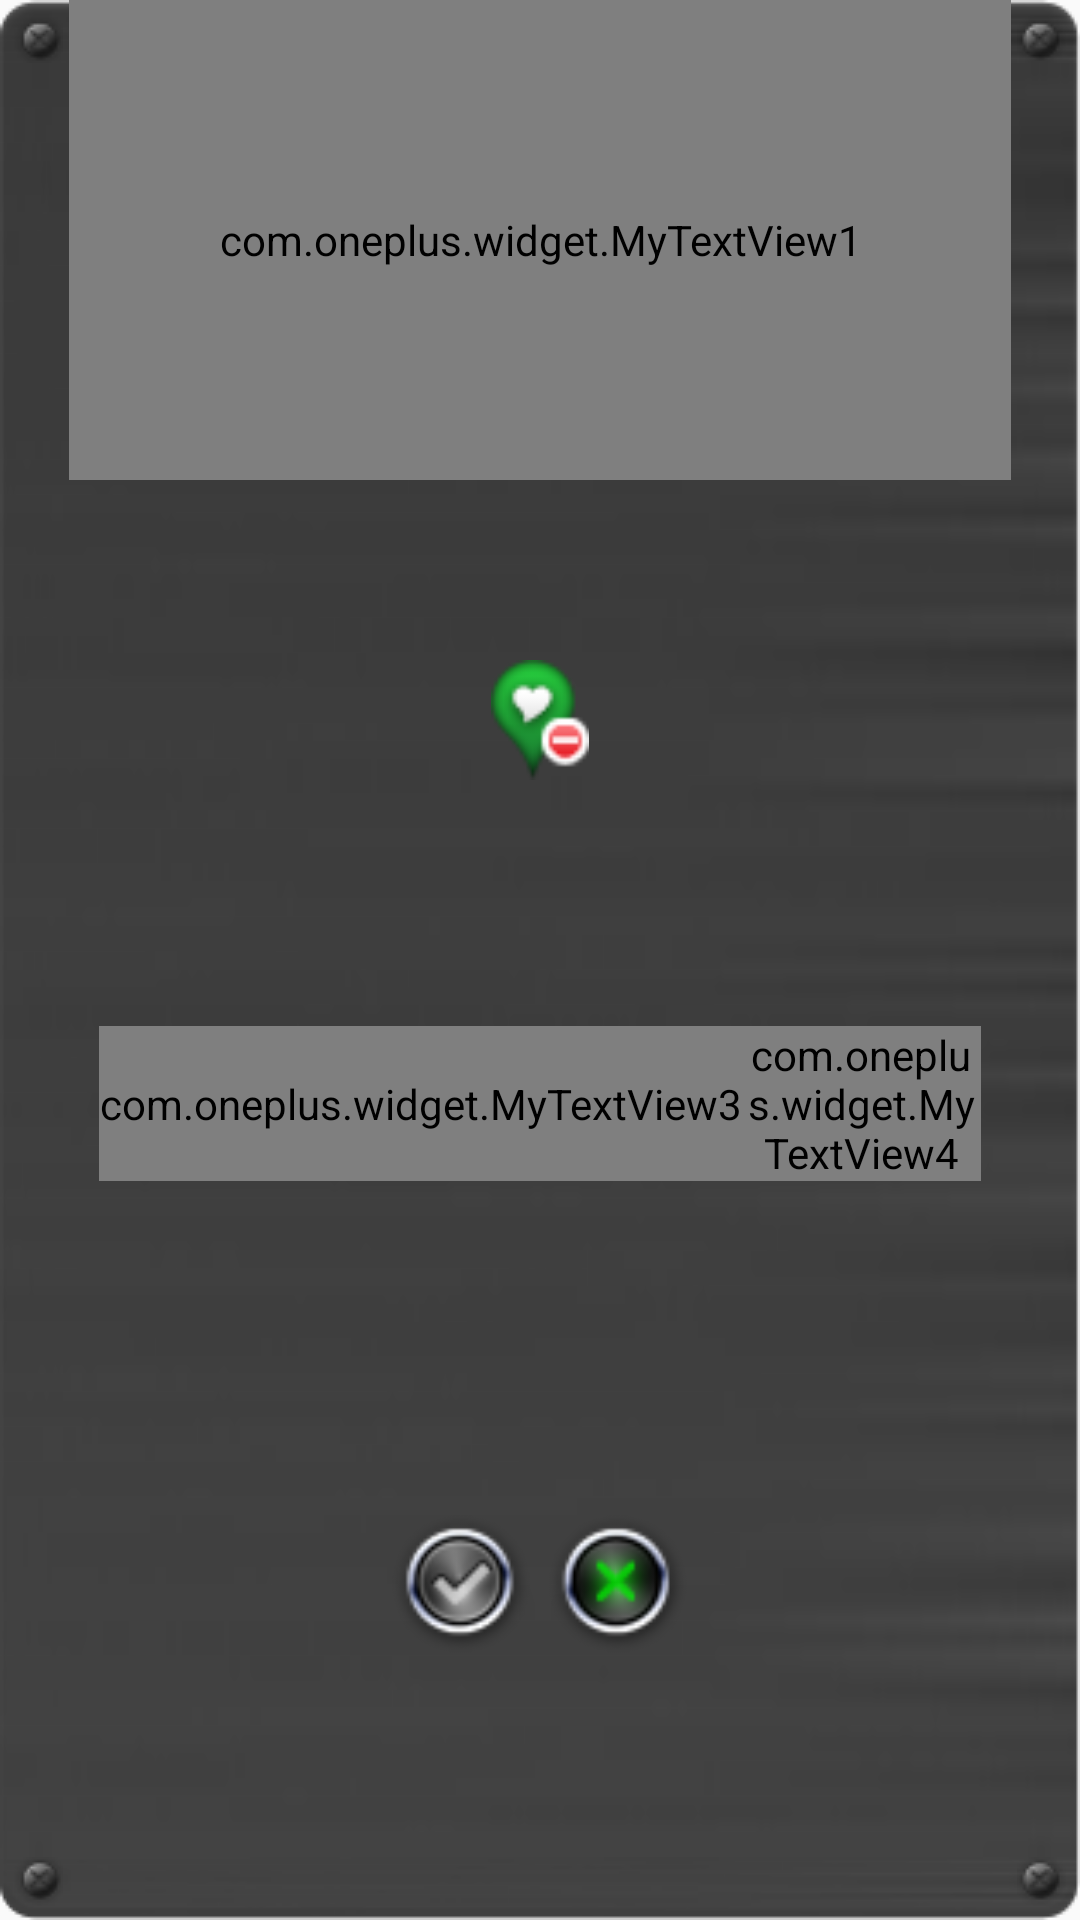

Screen size 1080 × 1920. Icon name, then its box in pixels as (x1, y1, x2, y2):
cancel on: (563, 1528, 669, 1634)
friend delete: (491, 660, 589, 776)
